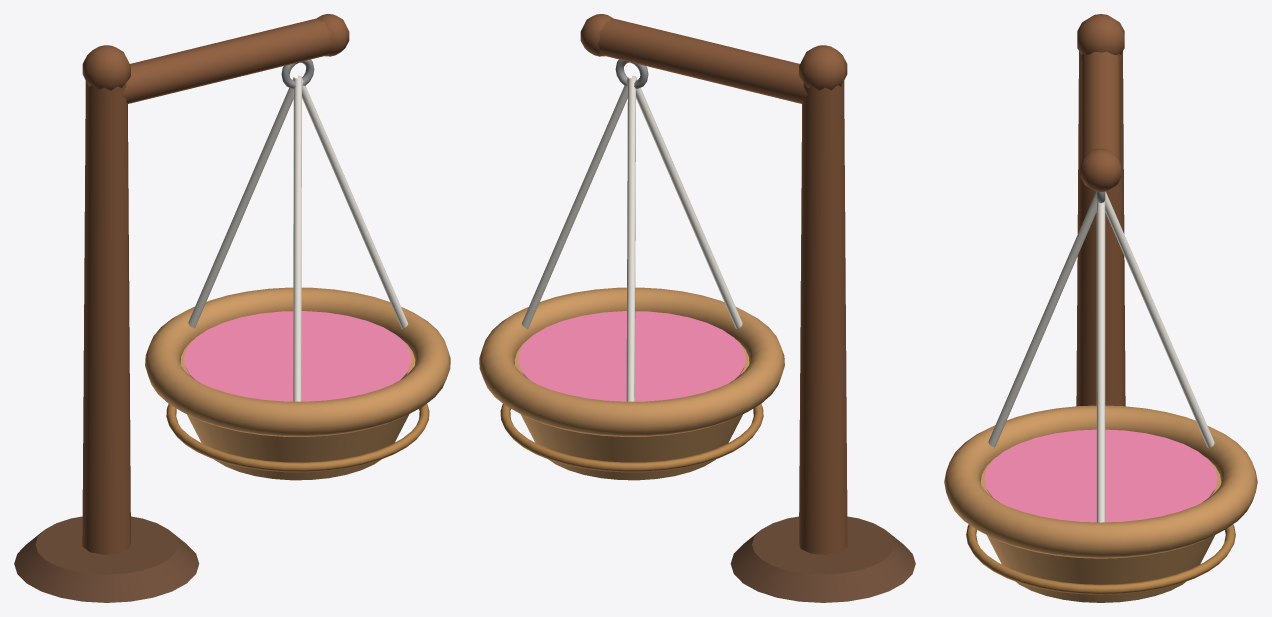
Rendered from hammock-basket.glb.
3 renders of one model, left to right at view 1: azimuth 30°, elevation 25°; view 2: azimuth 150°, elevation 25°; view 3: azimuth 270°, elevation 25°, orthographic. The views are drawn at different scales.
Size of the model in its own units: 1.31 by 1.6 by 0.86.
